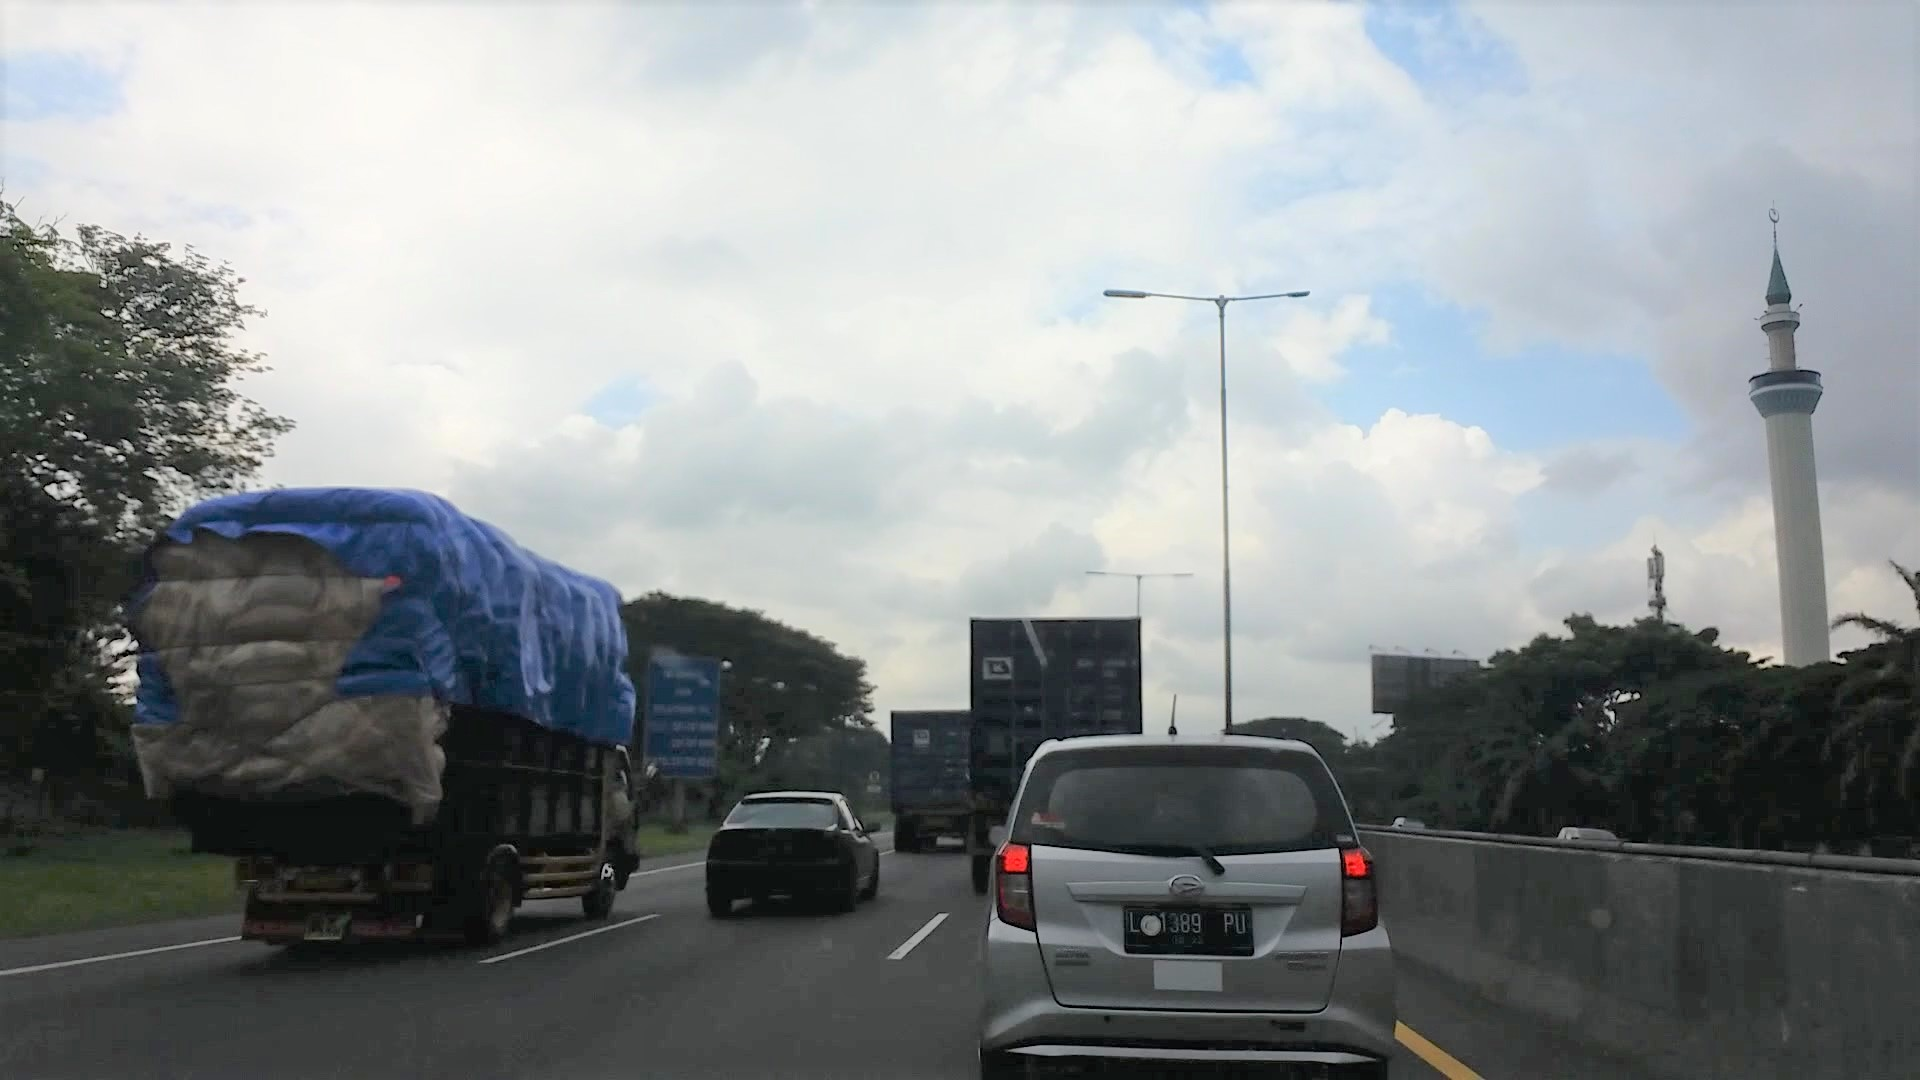plate_positive: (1124, 905, 1255, 956)
